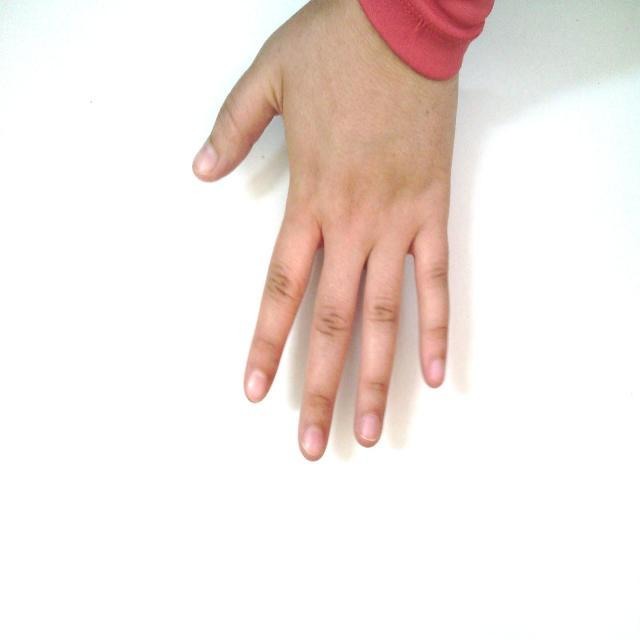Fingernail: (195, 144, 217, 173), (304, 427, 322, 455), (248, 372, 266, 399), (361, 415, 379, 438), (429, 359, 444, 382)
